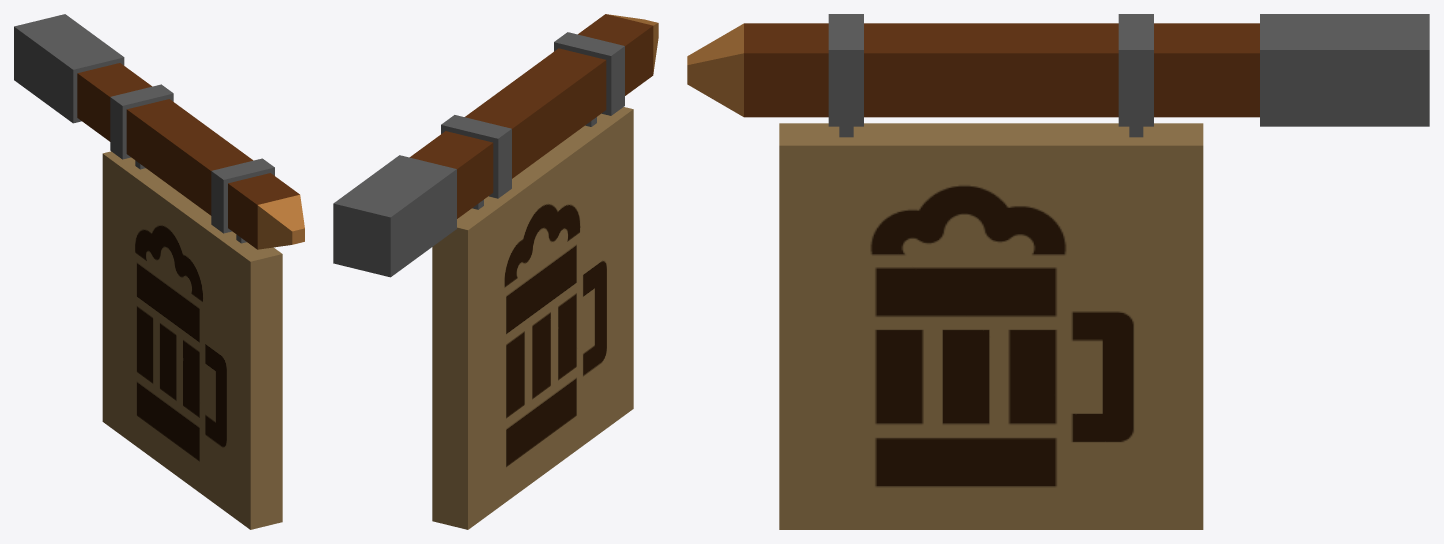
File: HangingSign_02.fbx
3 renders of one model, left to right at view 1: azimuth 30°, elevation 25°; view 2: azimuth 150°, elevation 25°; view 3: azimuth 270°, elevation 25°, orthographic. The views are drawn at different scales.
Parts seen in each view (by area): view 1: HangingSign_02; view 2: HangingSign_02; view 3: HangingSign_02.
Part boxes in pixels (x1,y1,x2,y2): HangingSign_02: (14,14,304,529); HangingSign_02: (333,14,658,529); HangingSign_02: (687,14,1429,529).
Size of the model in its own units: 12 by 76 by 105.
1 material, 1 textured.
